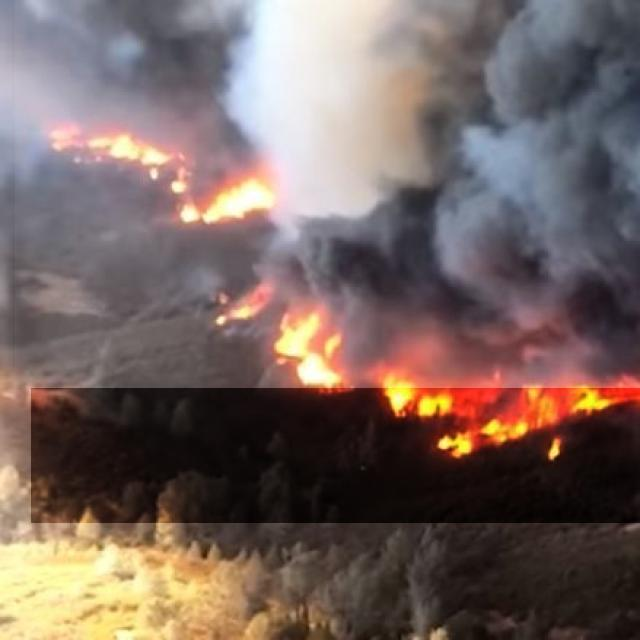Fire: (31, 101, 640, 523)
Smoke: (15, 0, 640, 388)
